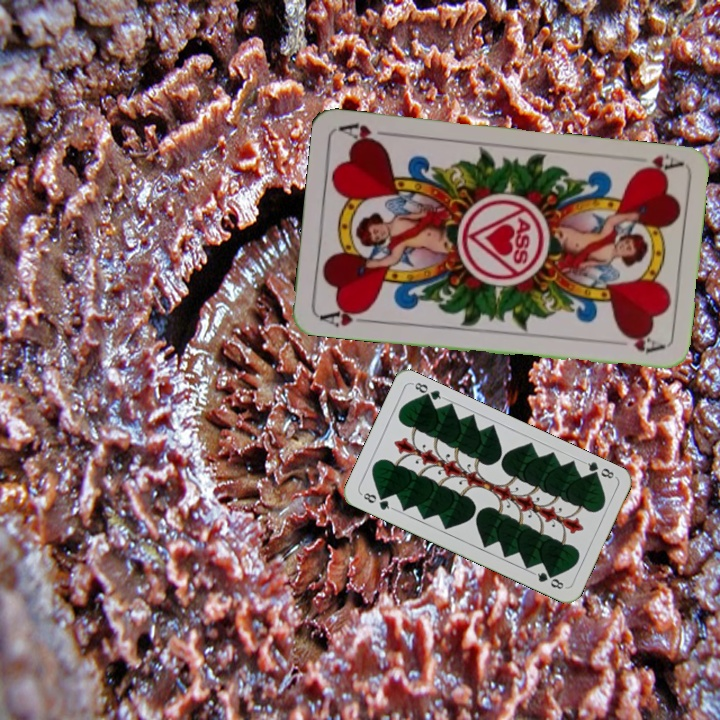G8: (357, 488, 396, 513), (580, 457, 617, 482)
HA: (316, 302, 375, 330), (632, 151, 684, 178)
